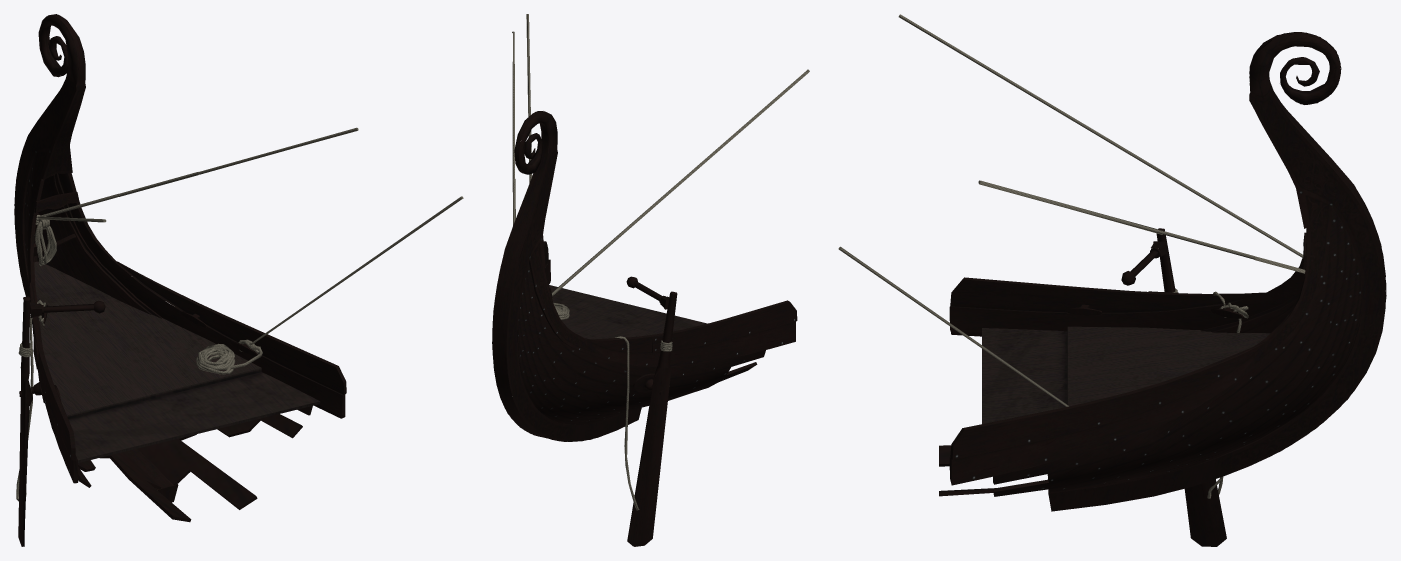
The model's file is ship_stem_stern.glb.
3 views of the same model, side by side, from view 1: azimuth 30°, elevation 25°; view 2: azimuth 150°, elevation 25°; view 3: azimuth 270°, elevation 25° (orthographic). The views are drawn at different scales.
Parts seen in each view (by area): view 1: defaultMaterial; view 2: defaultMaterial; view 3: defaultMaterial.
Boxes of the visible parts, x1,y1,x2,y2 form: defaultMaterial: [14, 14, 463, 546]; defaultMaterial: [492, 14, 809, 546]; defaultMaterial: [838, 14, 1386, 546].
Size of the model in its own units: 0.7573 by 1.01 by 0.9014.
Materials: 1 (1 with a texture image).
